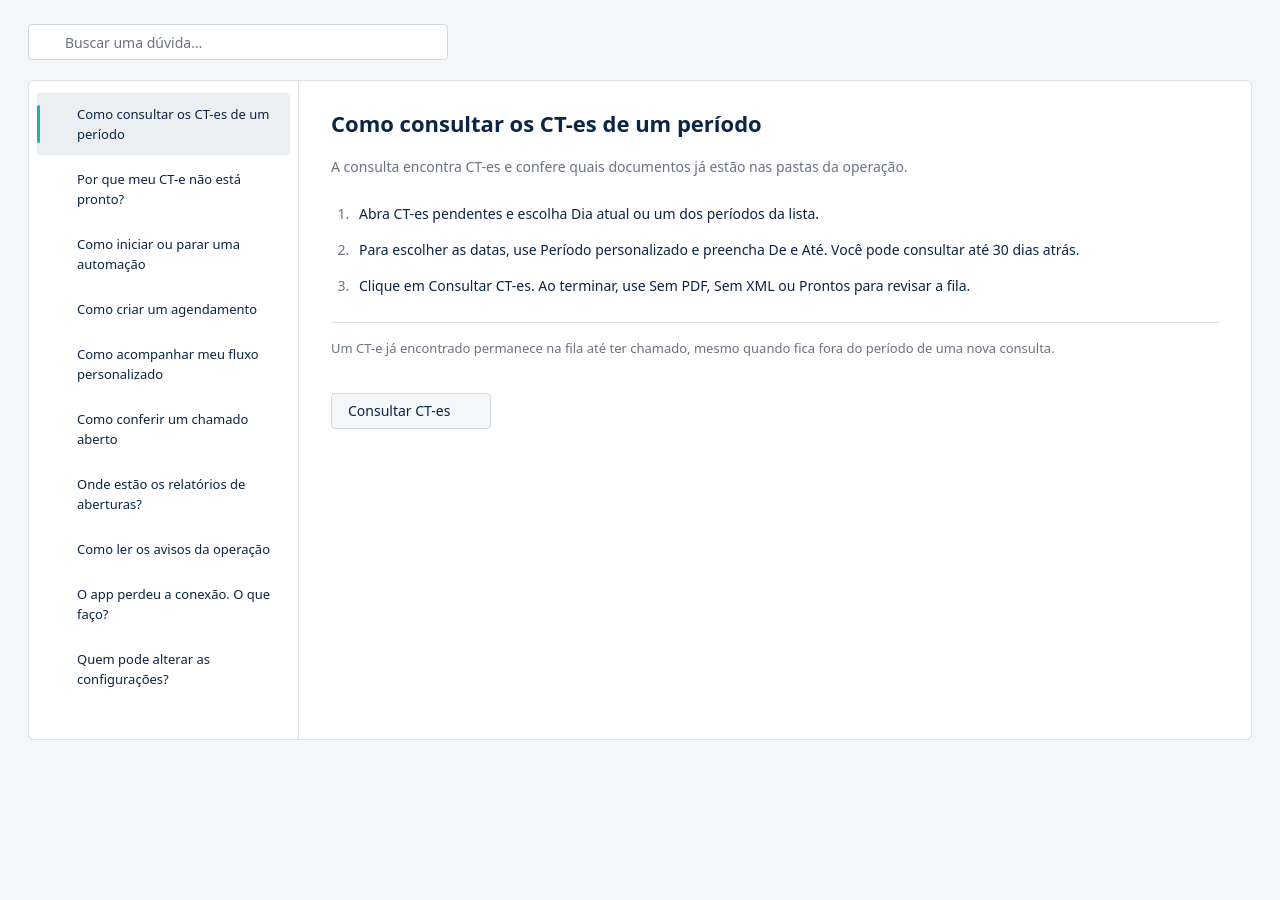
Test case: trata a busca sem resultados e restaura os assuntos ao limpar
This screenshot has width=1280, height=900.
Type "termo-inexistente" into the field named "Buscar na ajuda".
click(238, 42); type("termo-inexistente")  # box [28,24,448,60]
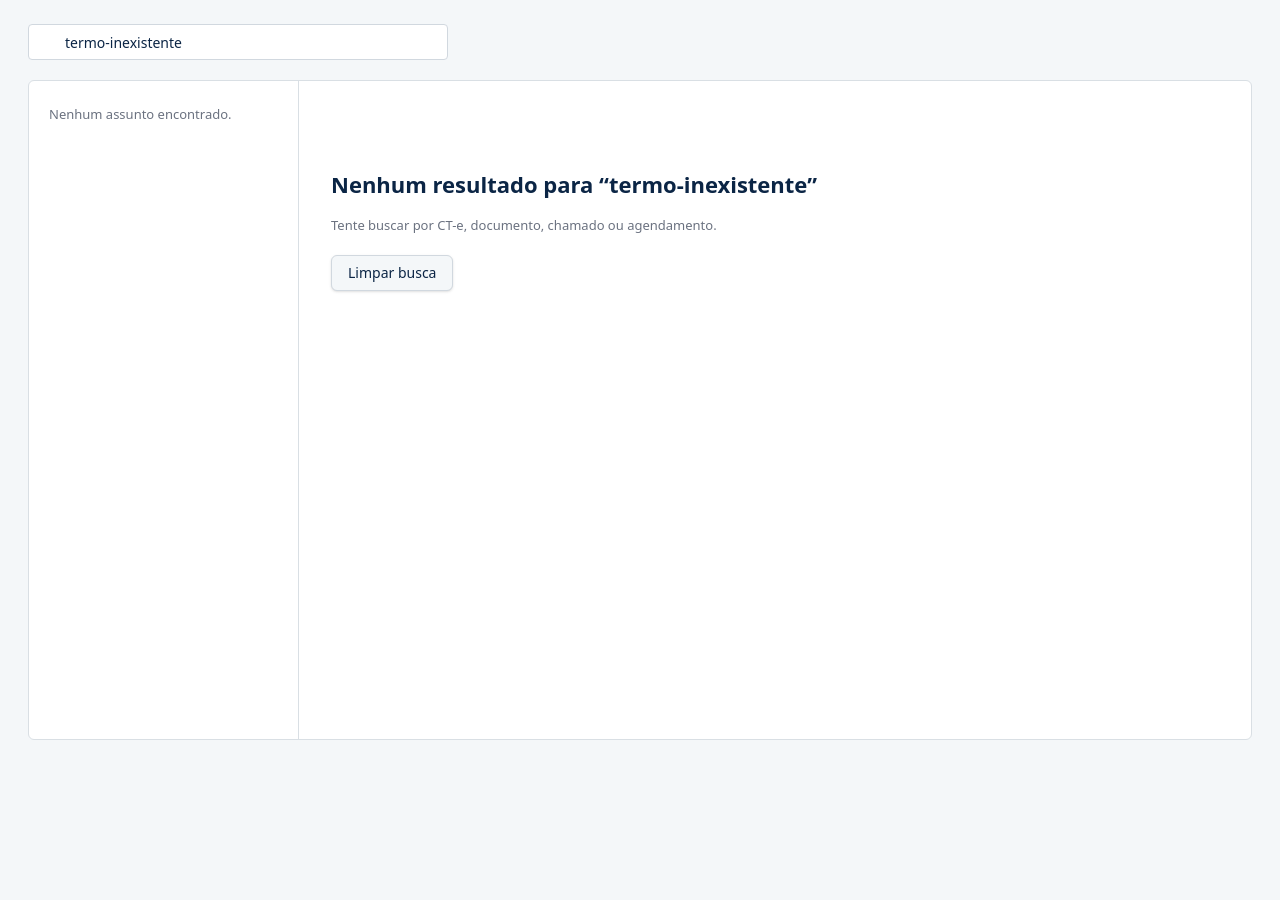
Result: the message shows "Nenhum resultado" at [331,169,609,199]
Click the button "Limpar busca".
click(392, 273)  # box [331,255,454,291]
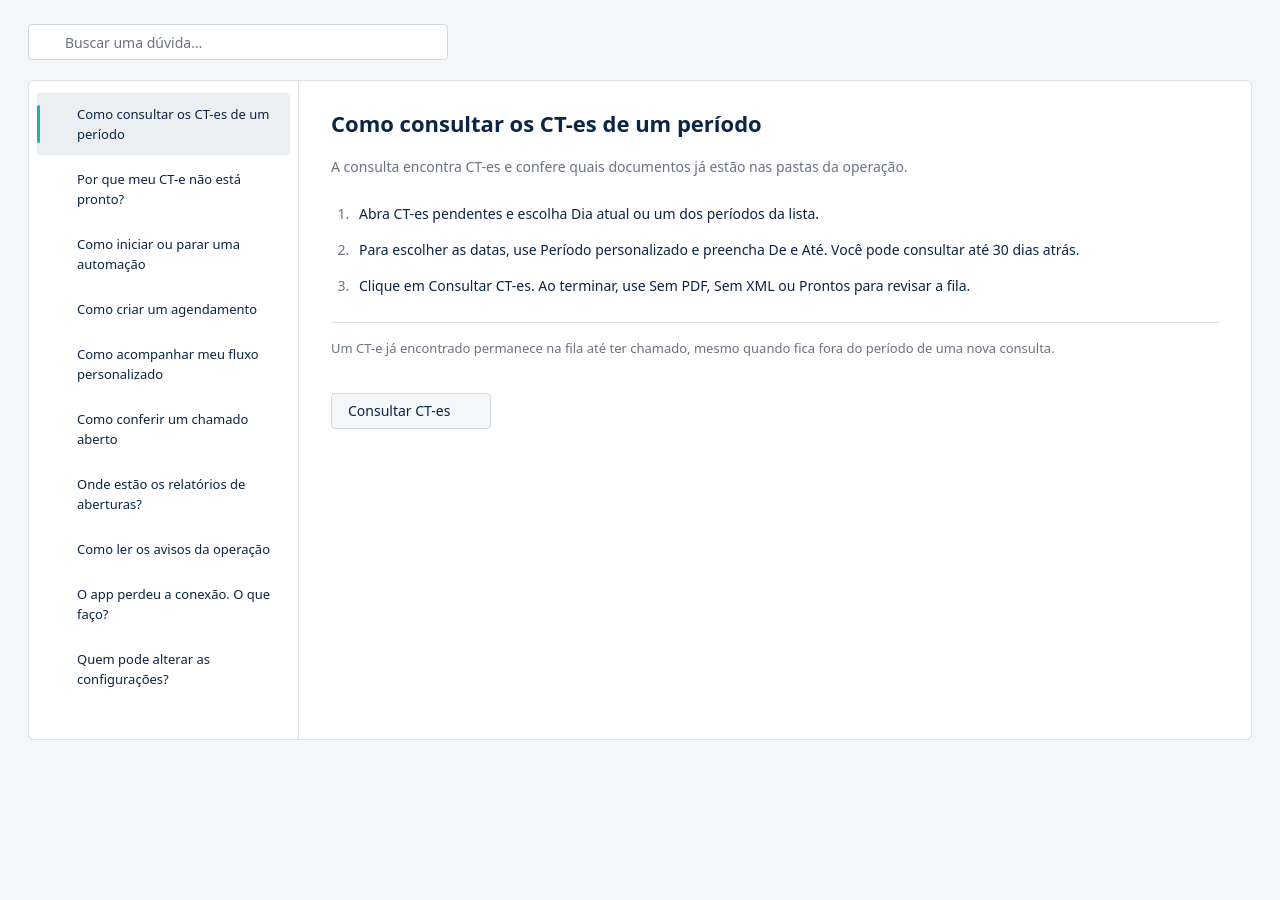
Result: the element that starts with "Como consultar os CT-es de um período" is shown at [331,108,1219,429]
